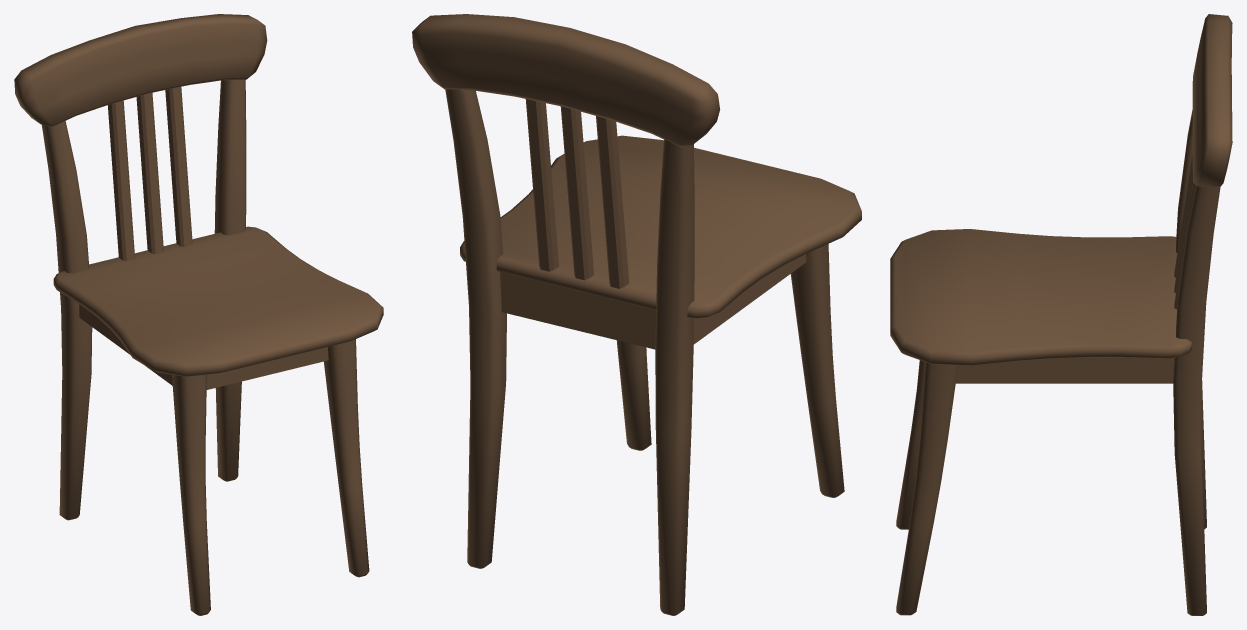
Rendered from Chair.fbx.
3 renders of one model, left to right at view 1: azimuth 30°, elevation 25°; view 2: azimuth 150°, elevation 25°; view 3: azimuth 270°, elevation 25°, orthographic. The views are drawn at different scales.
Visible parts, largest first — view 1: Cube.005; view 2: Cube.005; view 3: Cube.005.
Boxes of the visible parts, x1,y1,x2,y2 form: Cube.005: (14, 14, 383, 615); Cube.005: (412, 14, 861, 615); Cube.005: (890, 14, 1232, 615).
Size of the model in its own units: 107 by 194 by 117.
